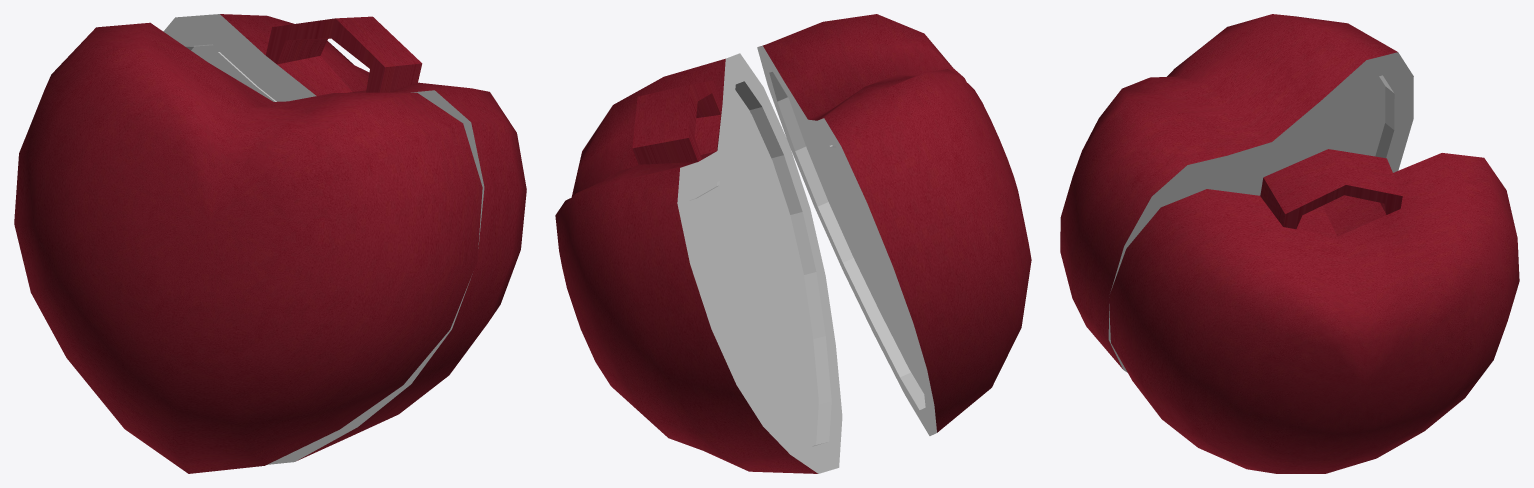
File: SM_Hotspot_Locket.fbx
3 views of the same model, side by side, from view 1: azimuth 30°, elevation 25°; view 2: azimuth 150°, elevation 25°; view 3: azimuth 270°, elevation 25° (orthographic). The views are drawn at different scales.
Visible parts, largest first — view 1: Sphere001; view 2: Sphere001; view 3: Sphere001.
Boxes of the visible parts, x1,y1,x2,y2 form: Sphere001: (14, 14, 526, 473); Sphere001: (555, 14, 1031, 473); Sphere001: (1060, 14, 1519, 473).
Bounding box in the file's own units: 175 × 163 × 173.
